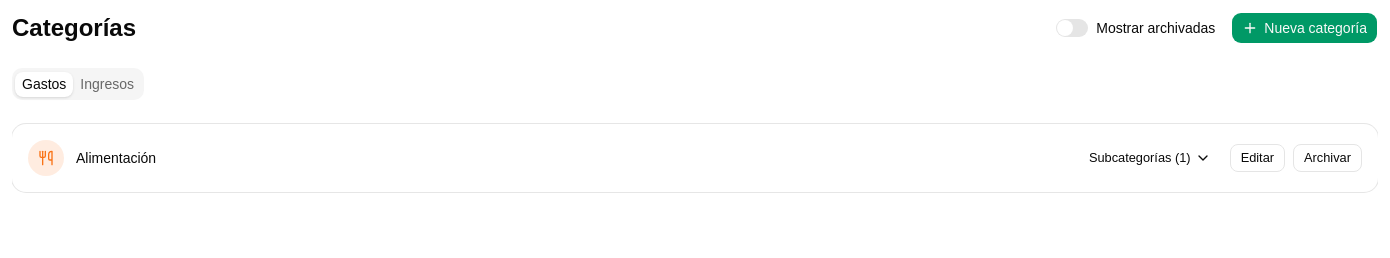
Test: CategoriesPage › shows an empty state per tab
Expected: the text "Alimentación" is shown, [76,148,156,168]
Click the tab "Ingresos" at [107, 84], box [73,72,141,96]
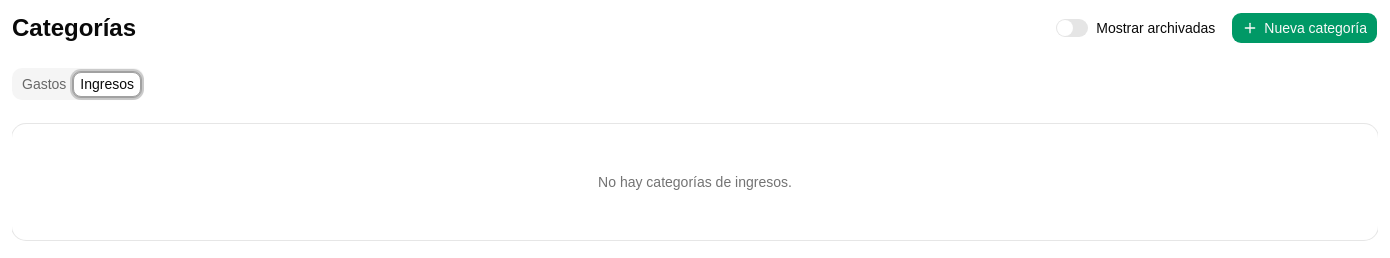
Result: the text "No hay categorías de ingresos." is shown at [598,174,792,190]
